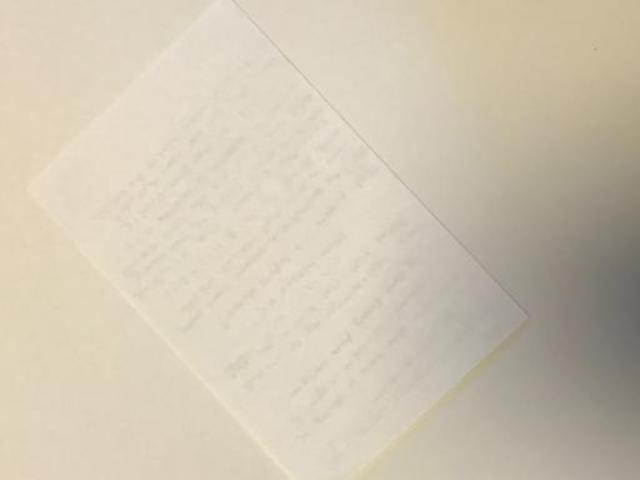cardboard paper: (31, 1, 524, 475)
